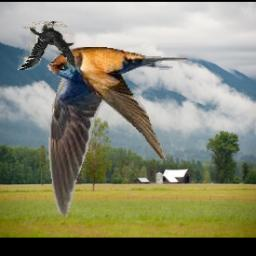Crow: (17, 22, 76, 71)
Swallow: (46, 48, 188, 218)
